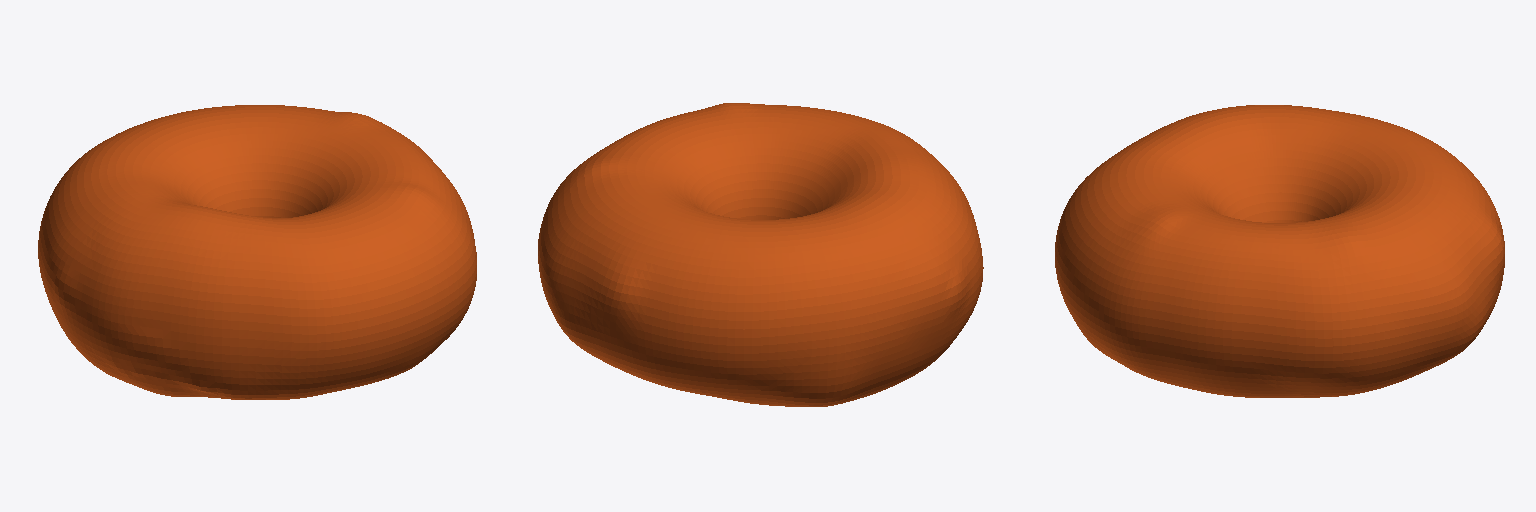
Rendered from Donut_plain.obj.
3 views of the same model, side by side, from view 1: azimuth 30°, elevation 25°; view 2: azimuth 150°, elevation 25°; view 3: azimuth 270°, elevation 25° (orthographic).
Visible parts, largest first — view 1: Donut; view 2: Donut; view 3: Donut.
Boxes of the visible parts, <box> form: Donut: <box>38,105,476,399</box>; Donut: <box>538,103,983,406</box>; Donut: <box>1055,105,1504,397</box>.
Bounding box in the file's own units: 0.0981 × 0.0441 × 0.0987.